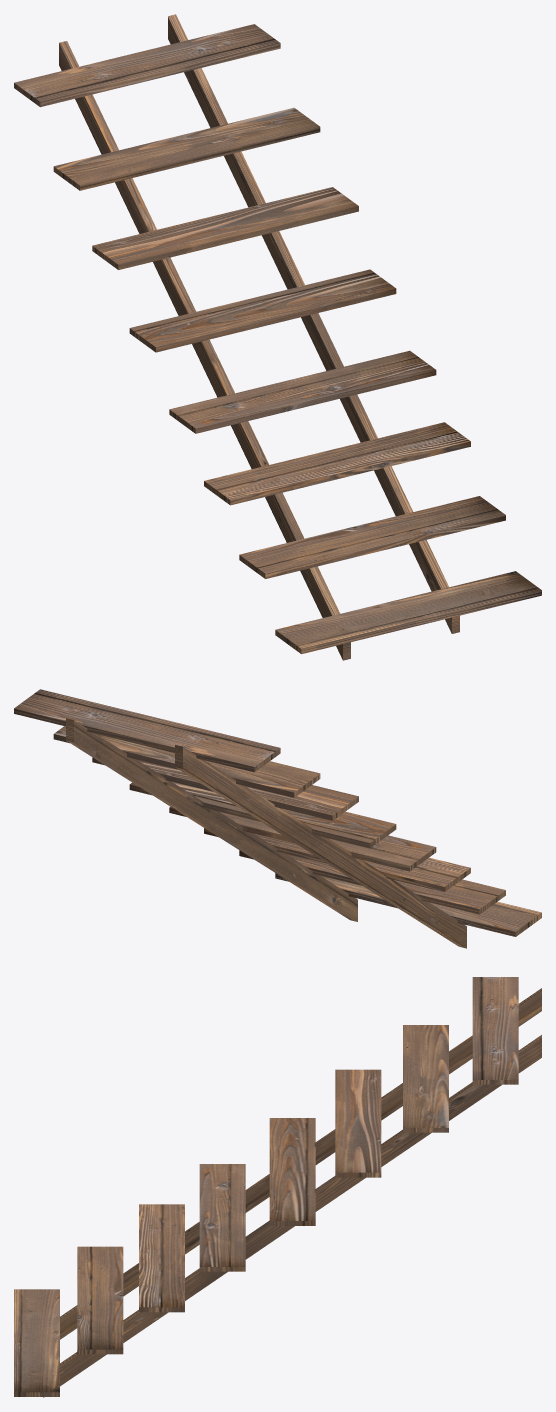
The model's file is Stairs.fbx.
3 views of the same model, one above another, from view 1: azimuth 30°, elevation 25°; view 2: azimuth 150°, elevation 25°; view 3: azimuth 270°, elevation 25° (orthographic). The views are drawn at different scales.
Parts seen in each view (by area): view 1: group8_pasted__pCube1; view 2: group8_pasted__pCube1; view 3: group8_pasted__pCube1.
Boxes of the visible parts, x1,y1,x2,y2 form: group8_pasted__pCube1: (14, 14, 541, 660); group8_pasted__pCube1: (14, 689, 541, 948); group8_pasted__pCube1: (14, 977, 541, 1397).
Size of the model in its own units: 5.3 by 8.63 by 11.47.
Materials: 1 (1 with a texture image).
